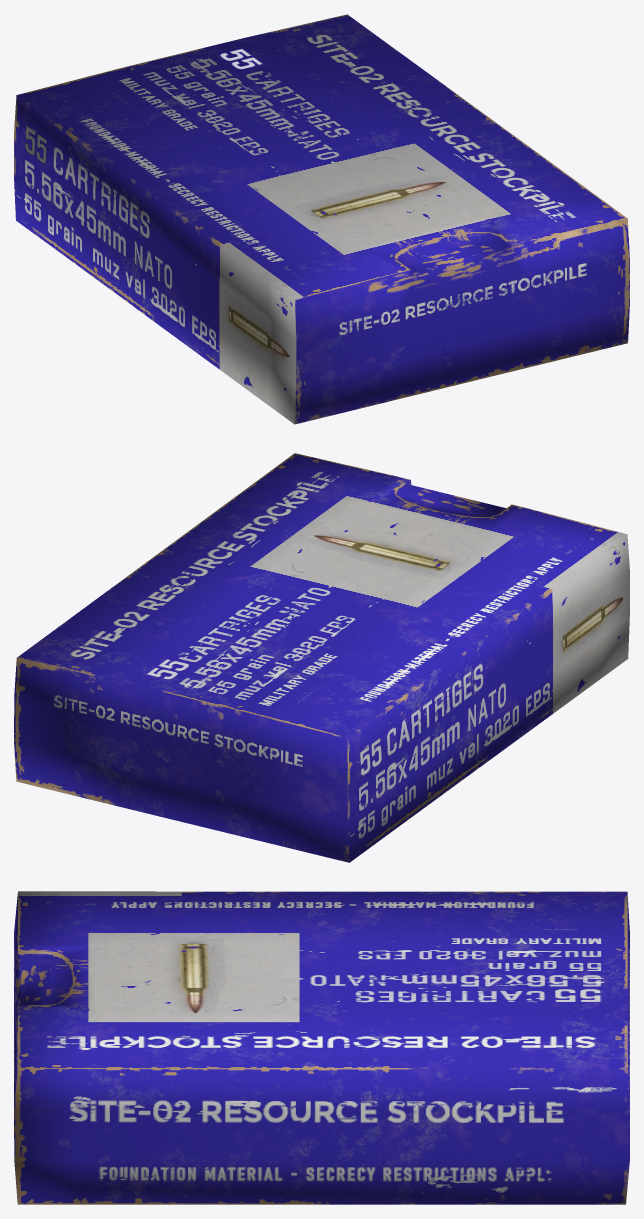
Rendered from Ammo556mmPickup.fbx.
3 renders of one model, top to bottom at view 1: azimuth 30°, elevation 25°; view 2: azimuth 150°, elevation 25°; view 3: azimuth 270°, elevation 25°, orthographic. The views are drawn at different scales.
Parts seen in each view (by area): view 1: ammo_5.56_LOD0; view 2: ammo_5.56_LOD0; view 3: ammo_5.56_LOD0.
Part boxes in pixels (x1,y1,x2,y2): ammo_5.56_LOD0: (14, 14, 629, 424); ammo_5.56_LOD0: (14, 453, 629, 862); ammo_5.56_LOD0: (14, 891, 629, 1204).
Size of what is drawn, in the model's own units: 0.2497 by 0.0913 by 0.3642.
Materials: 2 (2 with a texture image).
